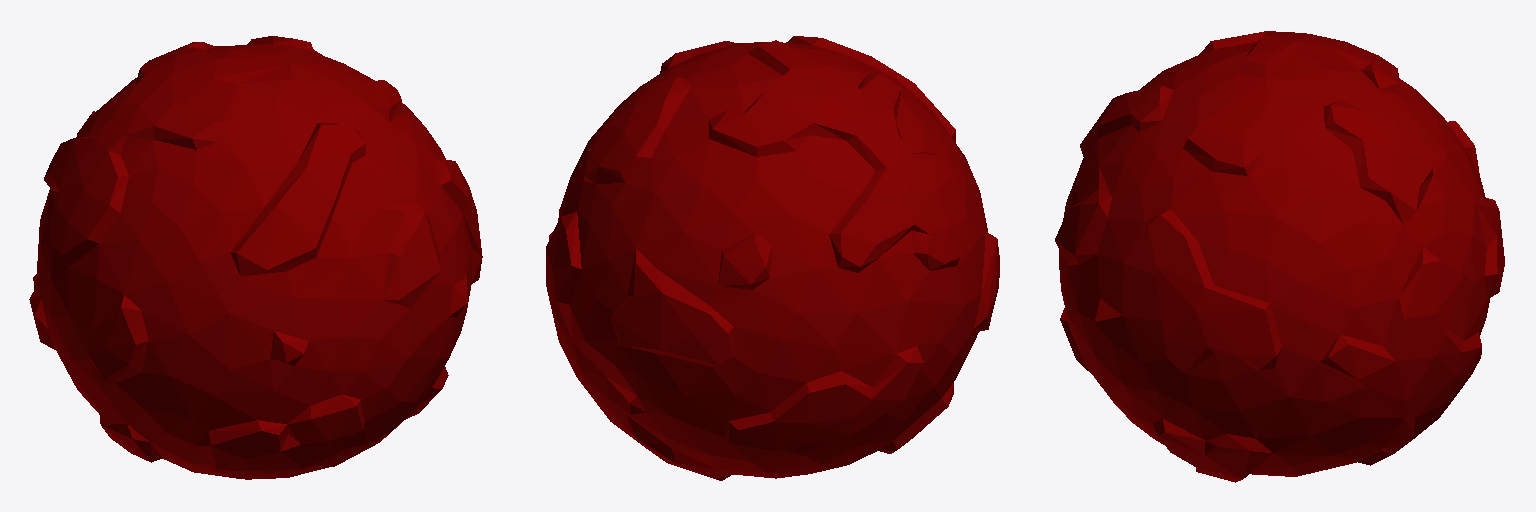
File: Mercury.obj
3 views of the same model, side by side, from view 1: azimuth 30°, elevation 25°; view 2: azimuth 150°, elevation 25°; view 3: azimuth 270°, elevation 25° (orthographic).
Parts seen in each view (by area): view 1: Mercury; view 2: Mercury; view 3: Mercury.
Boxes of the visible parts, <box> form: Mercury: <box>29,36,482,479</box>; Mercury: <box>546,36,999,480</box>; Mercury: <box>1055,31,1504,482</box>.
Bounding box in the file's own units: 35.81 × 35.45 × 36.01.